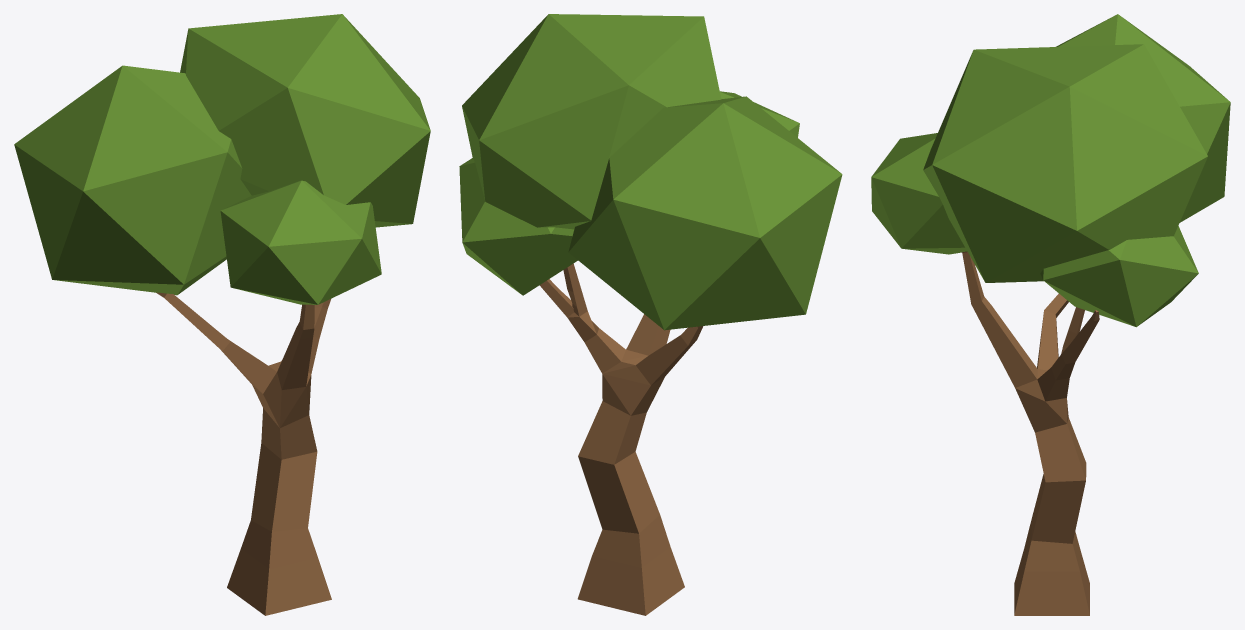
Rendered from tree_02.glb.
3 views of the same model, side by side, from view 1: azimuth 30°, elevation 25°; view 2: azimuth 150°, elevation 25°; view 3: azimuth 270°, elevation 25° (orthographic). The views are drawn at different scales.
Visible parts, largest first — view 1: Tree_02; view 2: Tree_02; view 3: Tree_02.
Part boxes in pixels (x1,y1,x2,y2): Tree_02: [14, 14, 430, 615]; Tree_02: [459, 14, 842, 615]; Tree_02: [871, 14, 1230, 615].
Size of the model in its own units: 3.08 by 4.61 by 2.74.
Materials: 1 (1 with a texture image).
